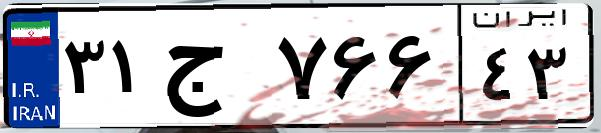1: (110, 28, 158, 98)
3: (57, 26, 110, 100), (525, 38, 570, 115)
4: (475, 38, 525, 113)
6: (385, 28, 445, 110), (330, 28, 385, 110)
7: (270, 28, 330, 110)
ج: (158, 20, 270, 120)
